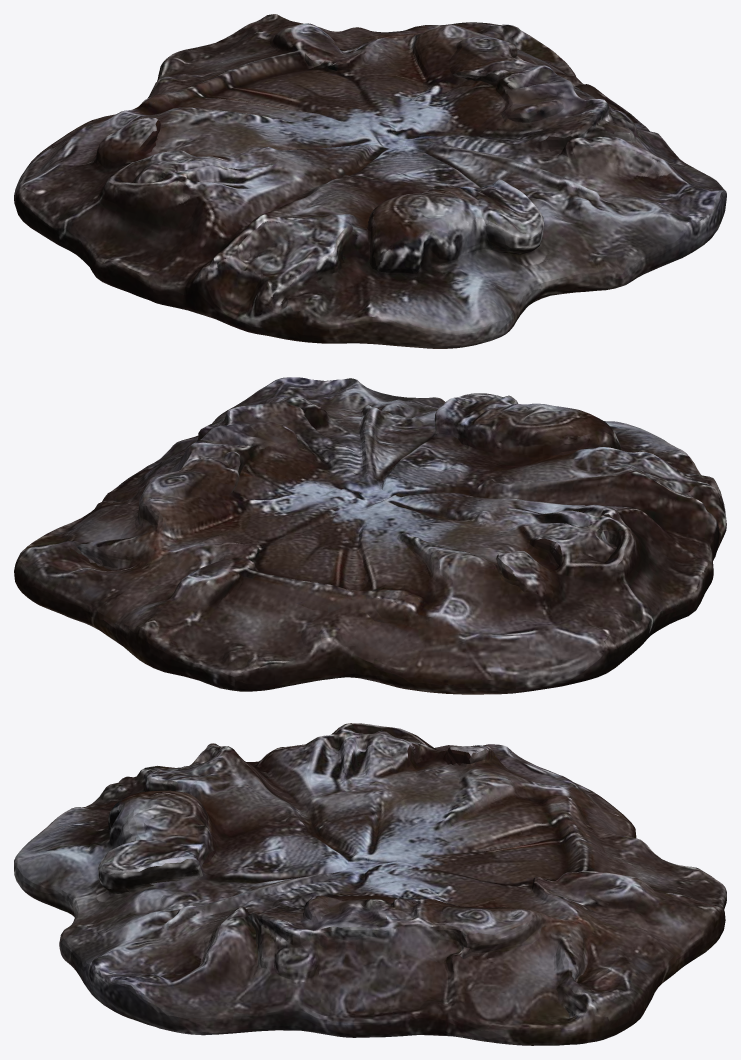
The model's file is crater.glb.
3 views of the same model, one above another, from view 1: azimuth 30°, elevation 25°; view 2: azimuth 150°, elevation 25°; view 3: azimuth 270°, elevation 25° (orthographic).
Visible parts, largest first — view 1: tmpr27dphb4.ply; view 2: tmpr27dphb4.ply; view 3: tmpr27dphb4.ply.
Part boxes in pixels (x1,y1,x2,y2): tmpr27dphb4.ply: [14, 14, 726, 348]; tmpr27dphb4.ply: [14, 377, 726, 694]; tmpr27dphb4.ply: [14, 723, 726, 1045].
Size of the model in its own units: 0.9072 by 0.1347 by 1.
Materials: 1 (1 with a texture image).
